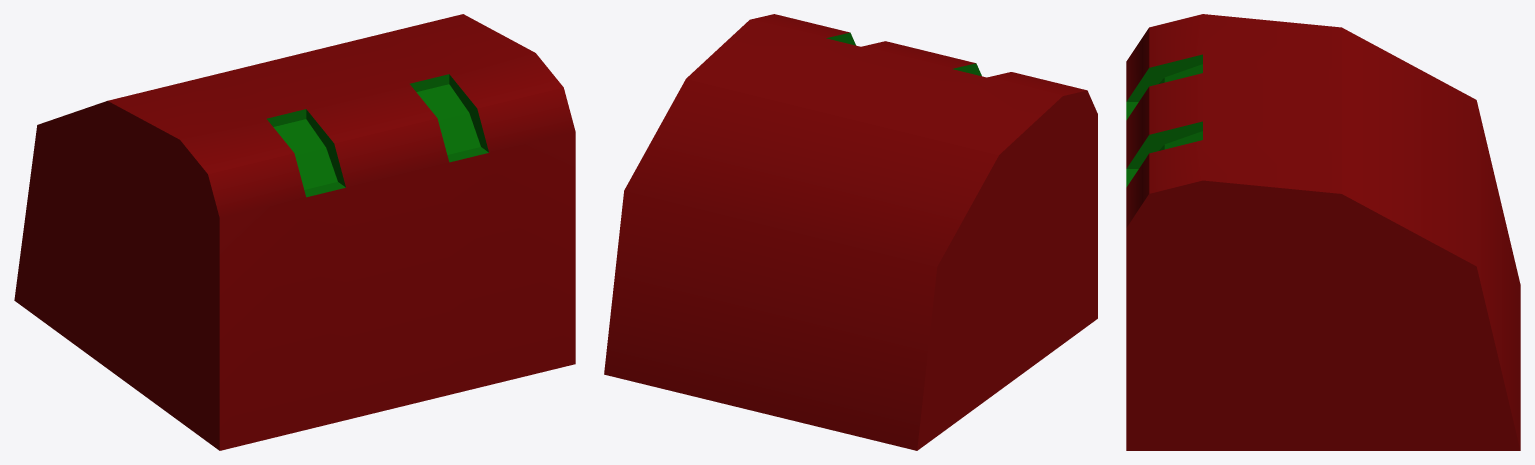
Rendered from TowerHeavyTop.fbx.
3 renders of one model, left to right at view 1: azimuth 30°, elevation 25°; view 2: azimuth 150°, elevation 25°; view 3: azimuth 270°, elevation 25°, orthographic. The views are drawn at different scales.
Parts seen in each view (by area): view 1: TowerHeavyTop; view 2: TowerHeavyTop; view 3: TowerHeavyTop.
Boxes of the visible parts, x1=… form: TowerHeavyTop: x1=14, y1=14, x2=575, y2=450; TowerHeavyTop: x1=604, y1=14, x2=1097, y2=450; TowerHeavyTop: x1=1126, y1=14, x2=1520, y2=450.
Bounding box in the file's own units: 0.5987 × 0.4535 × 0.5987.
